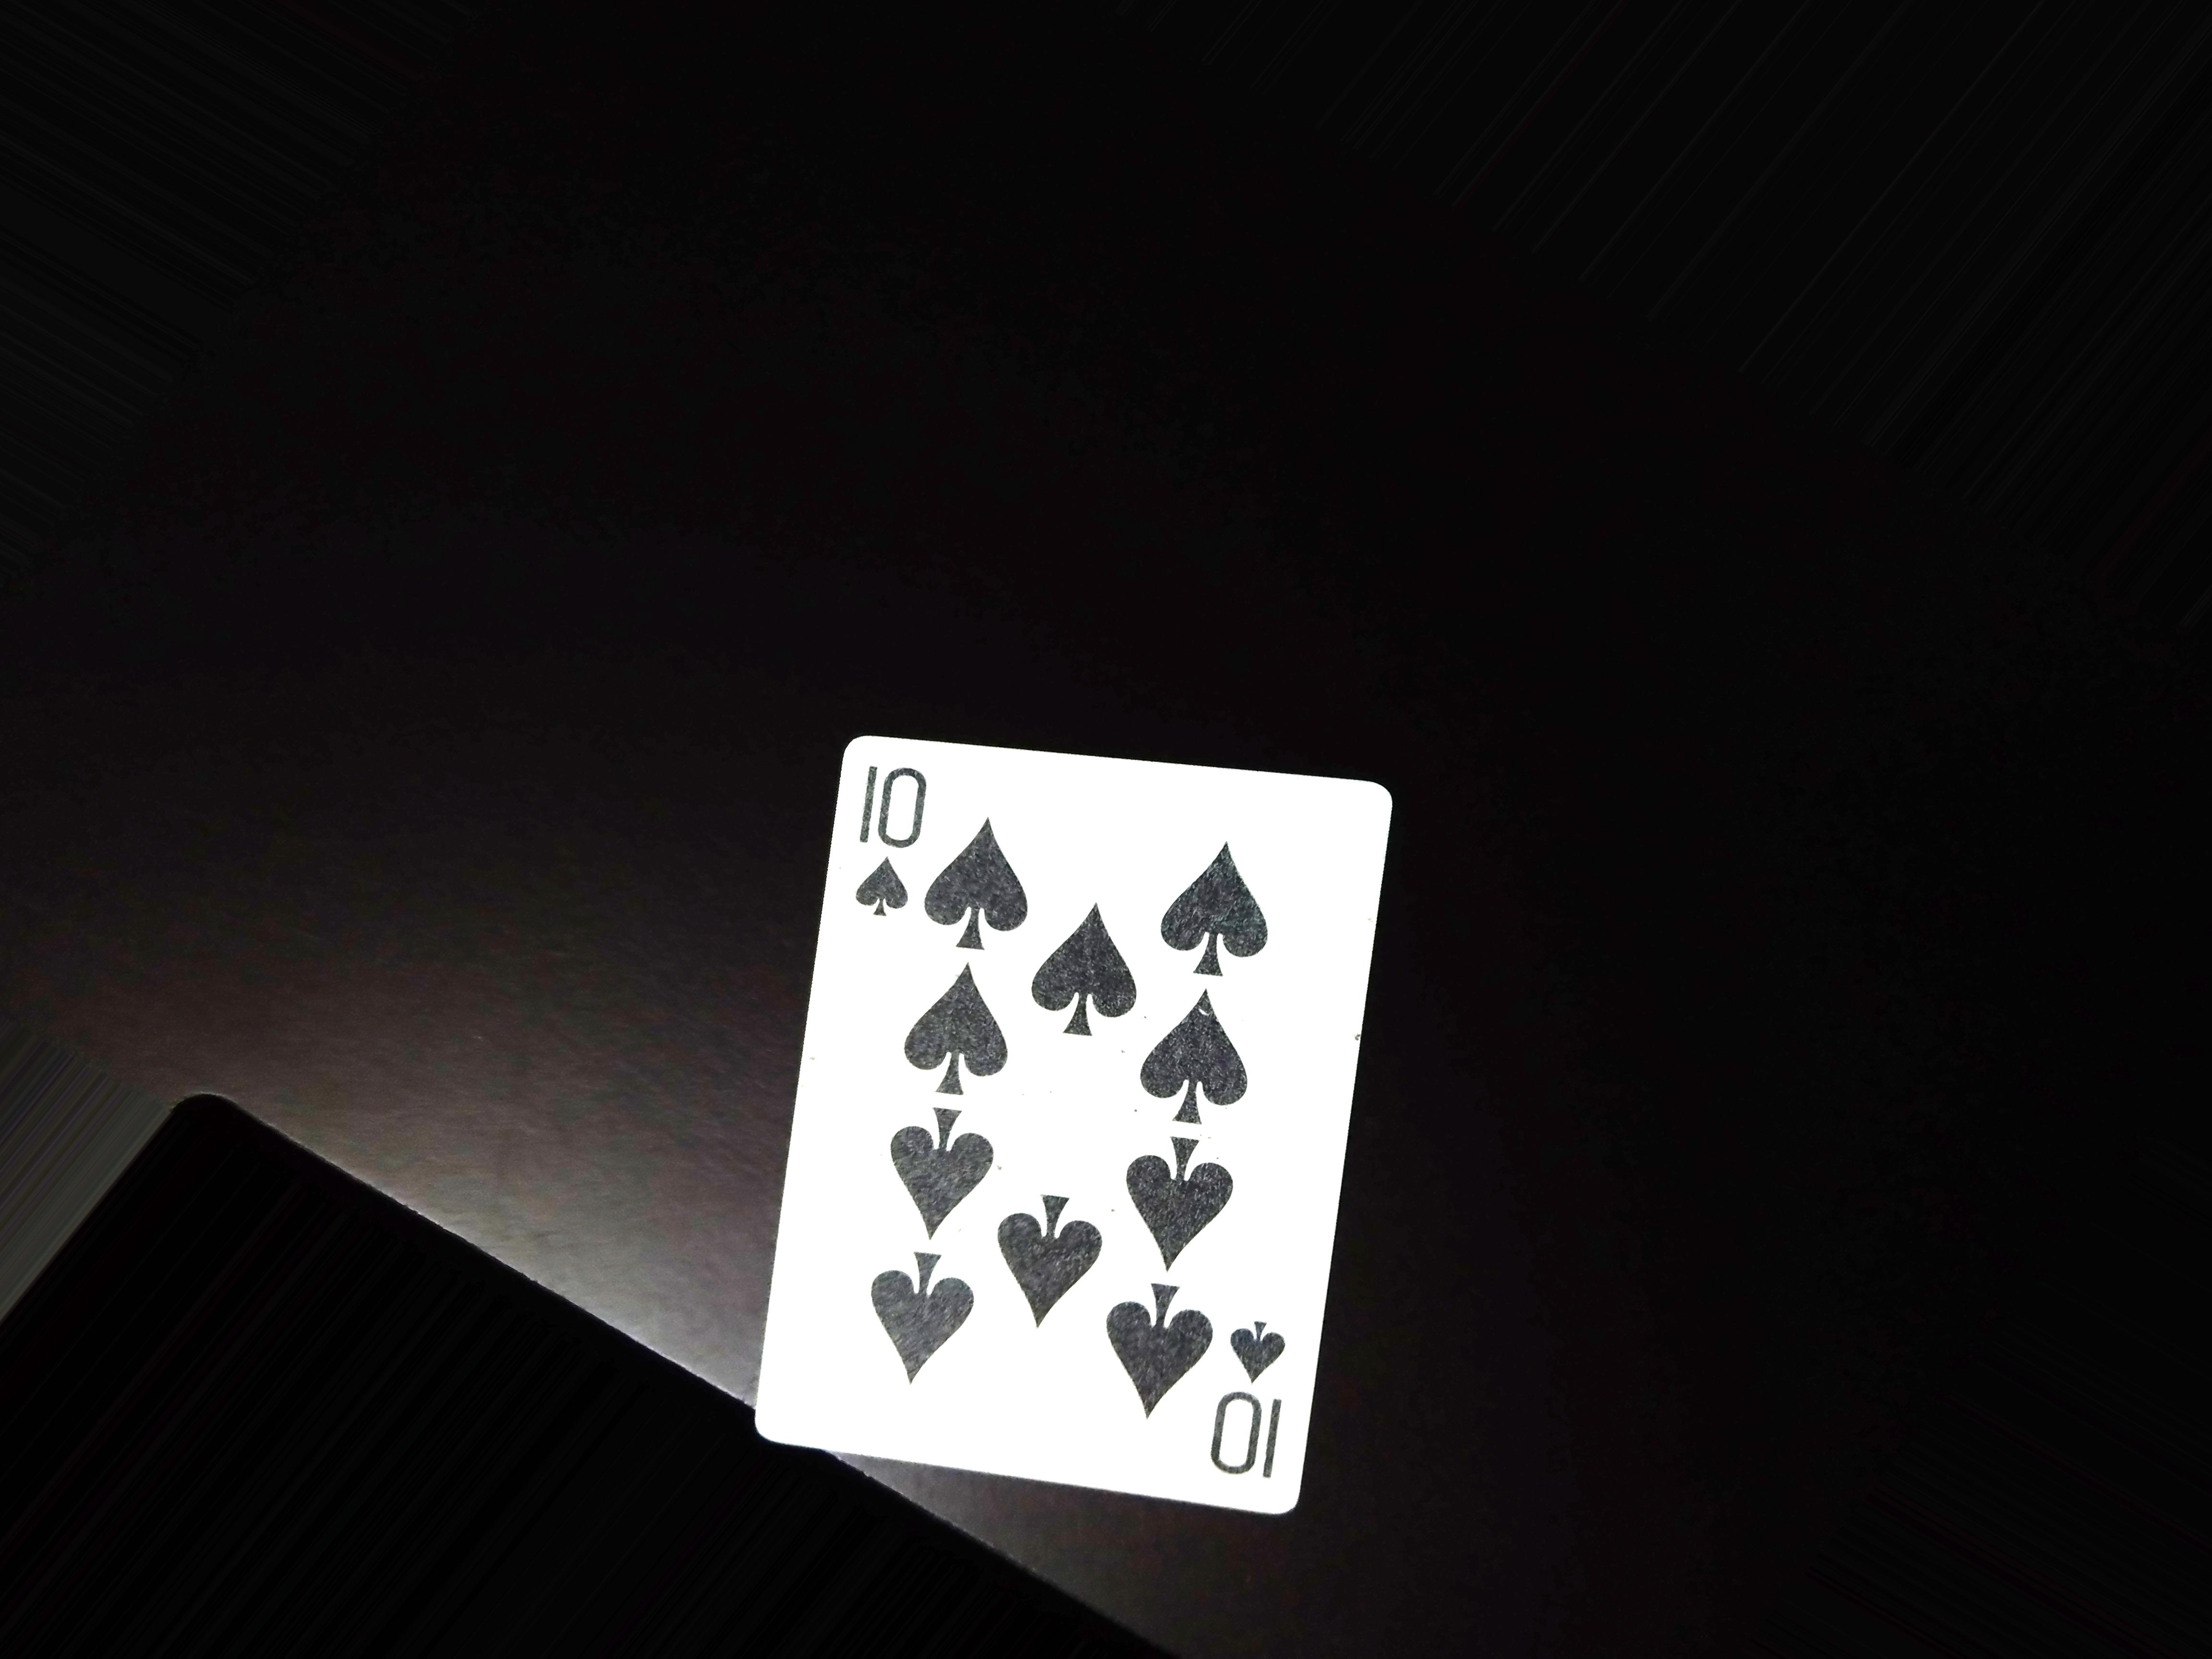10S: (848, 755, 939, 925)
